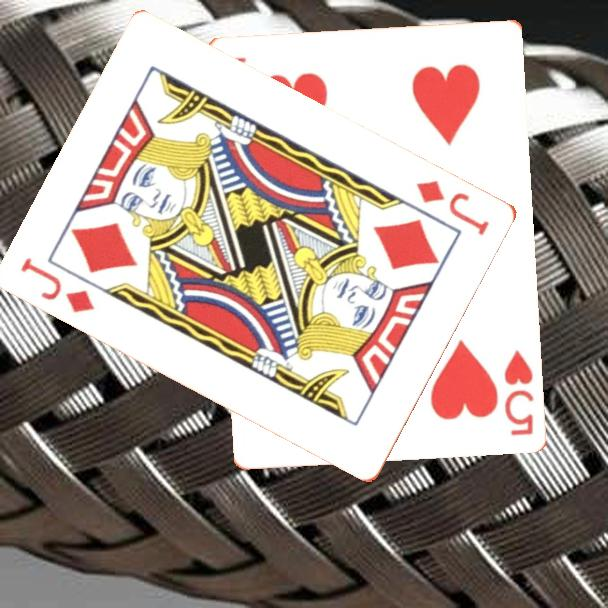d11: (17, 253, 99, 316), (413, 176, 493, 238)
h05: (500, 346, 536, 439)
